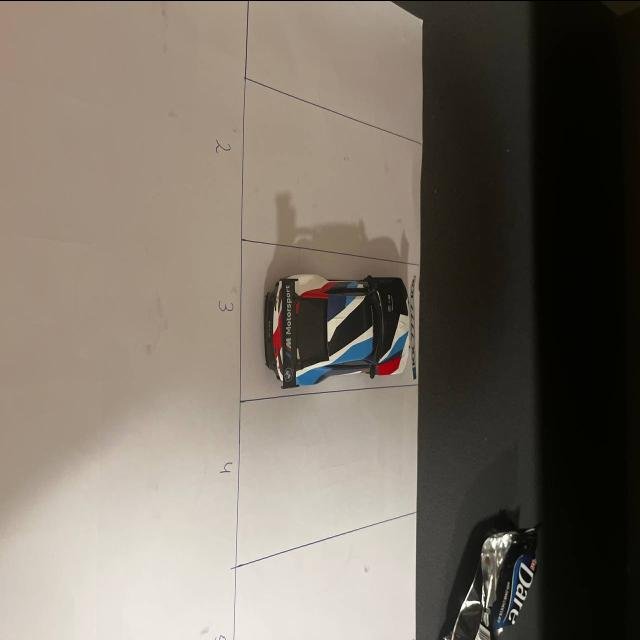cars: (238, 241, 423, 402)
